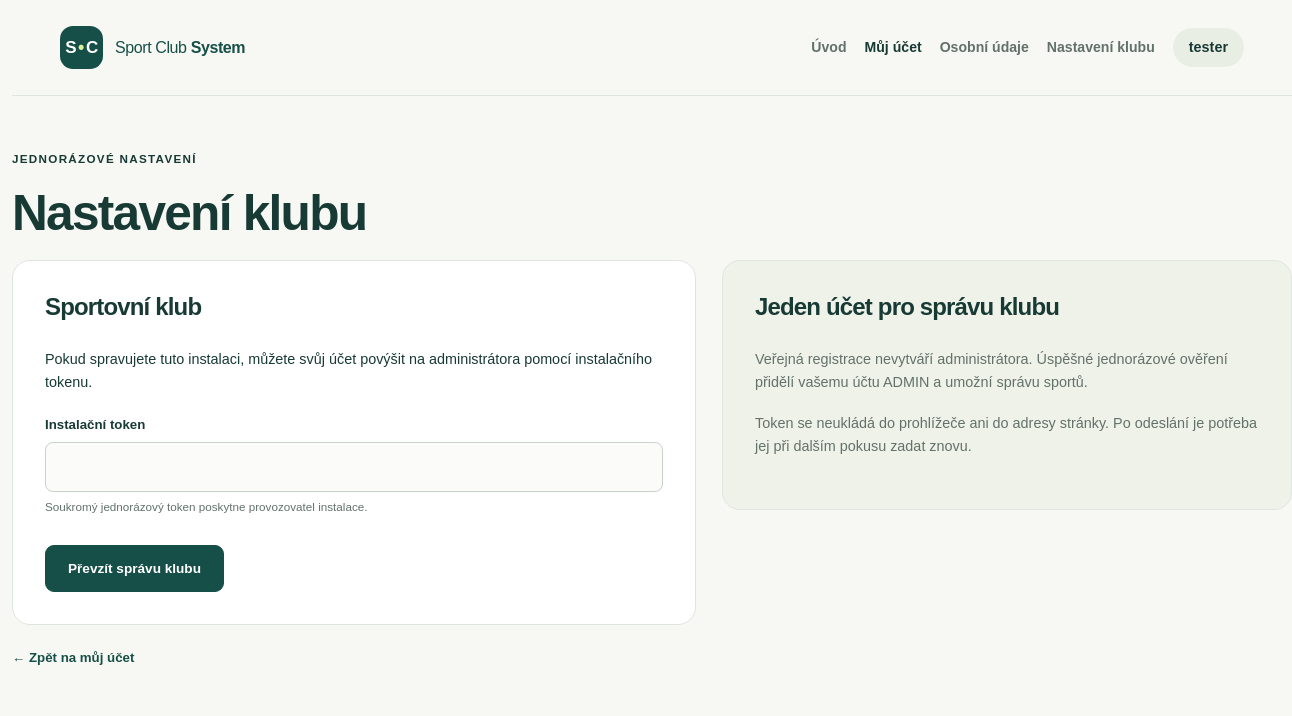
P1 safe club setup › úspěšné převzetí obnoví aktuální ADMIN roli, kontext i navigaci
The image size is (1292, 716).
Check: the heading "Sportovní klub" is shown, box [45, 293, 201, 320]
Check: the link "Správa sportů" is not shown
Type "setup-token" into the password field labelled "Instalační token" at (354, 467), box [45, 442, 663, 492]
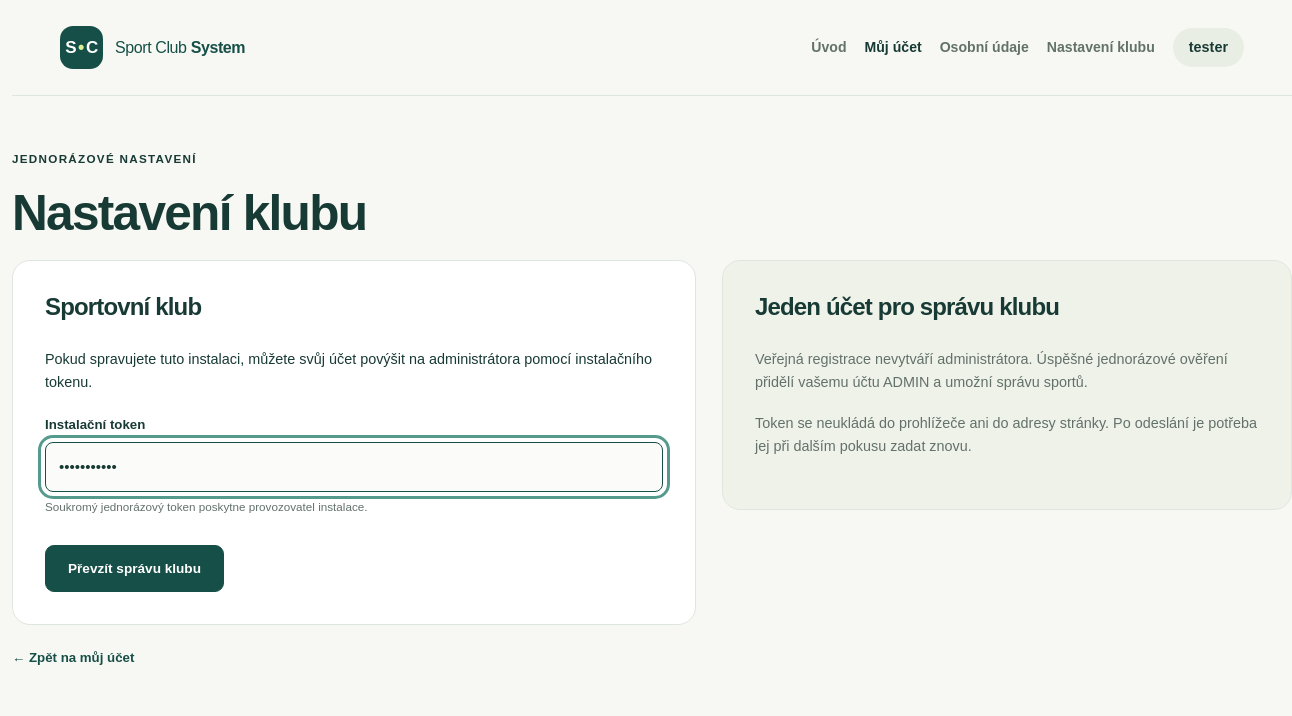
Click the button "Převzít správu klubu" at (134, 569), box [45, 545, 224, 592]
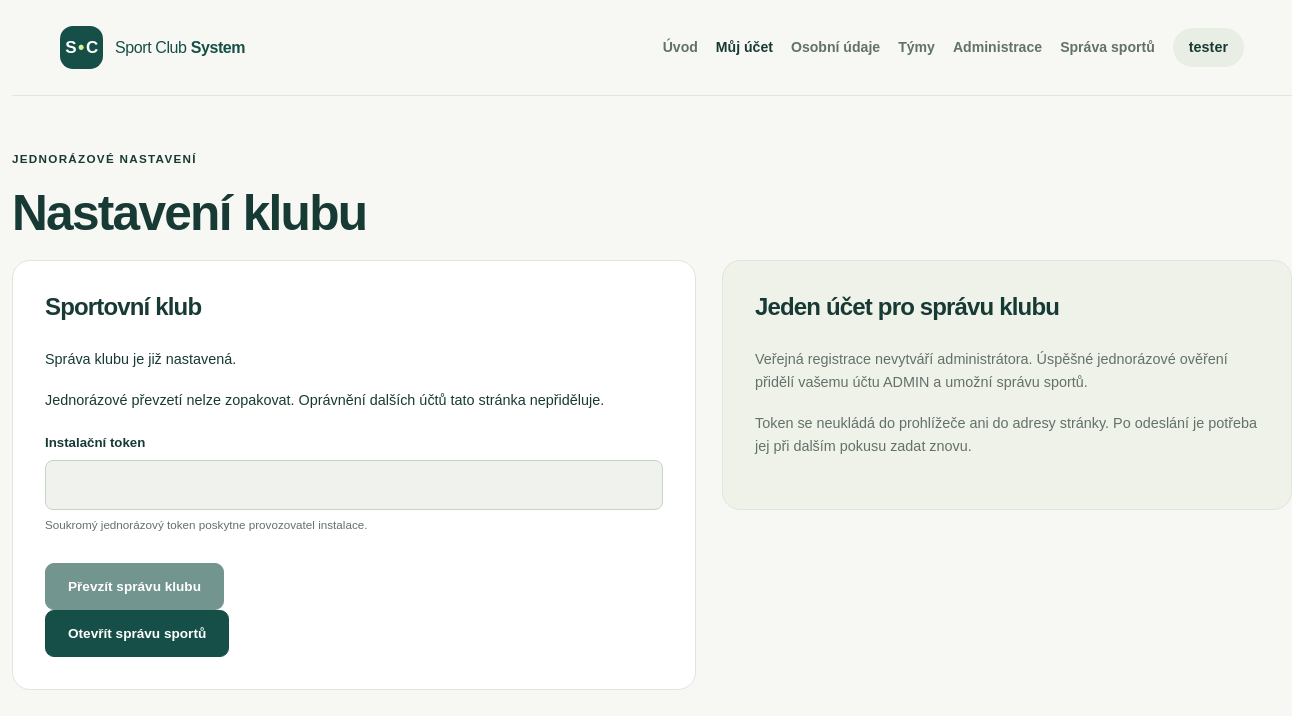
Check: the text "Správa klubu je již nastavená." is shown, box [45, 351, 236, 367]
Check: the link "Otevřít správu sportů" is shown, box [45, 610, 229, 657]
